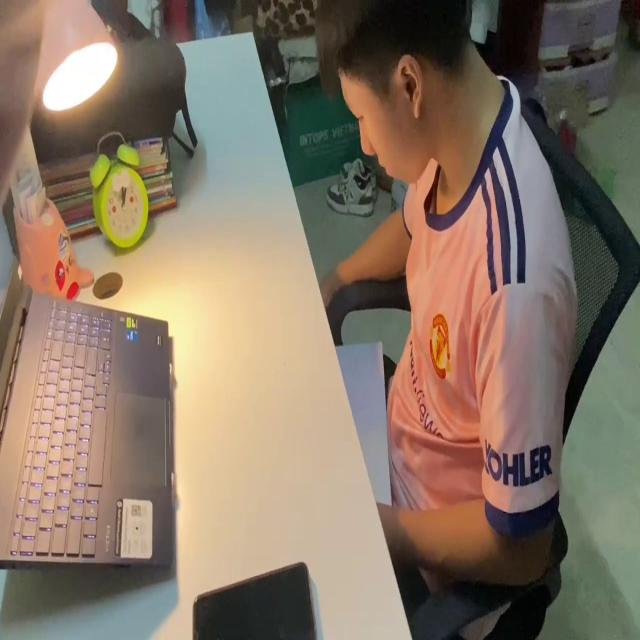book: (331, 332, 398, 520)
laptop: (0, 197, 177, 582)
phone: (188, 553, 324, 640)
student: (308, 1, 568, 614)
